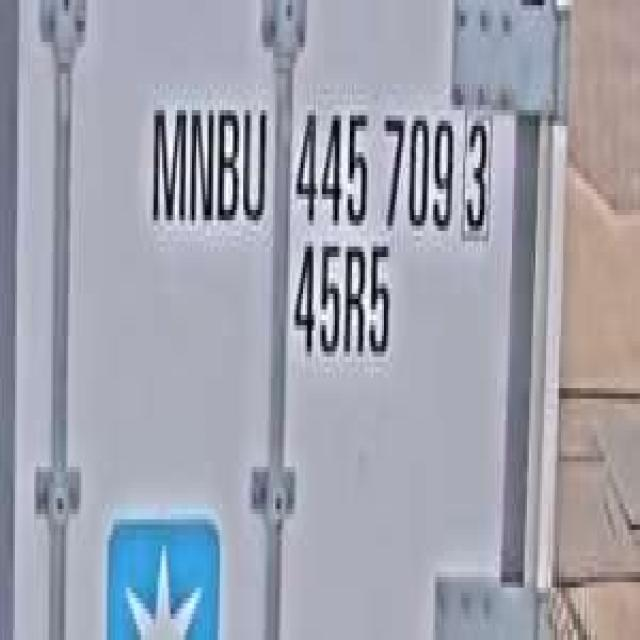dv: (459, 100, 495, 241)
owner: (143, 78, 271, 246)
serial: (288, 78, 454, 246)
size: (290, 231, 397, 372)
